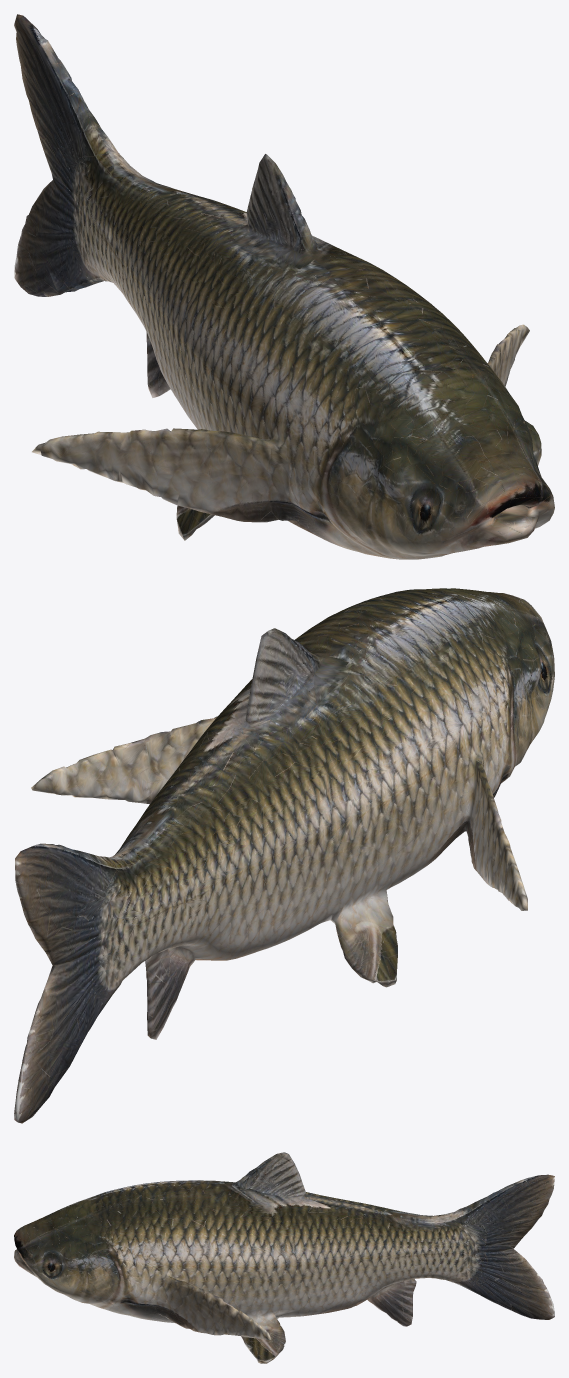
The model's file is fish_grasscarp.glb.
3 renders of one model, top to bottom at view 1: azimuth 30°, elevation 25°; view 2: azimuth 150°, elevation 25°; view 3: azimuth 270°, elevation 25°, orthographic. The views are drawn at different scales.
Parts seen in each view (by area): view 1: geometry_0; view 2: geometry_0; view 3: geometry_0.
Part boxes in pixels (bbox=[...]): geometry_0: bbox=[14, 14, 554, 559]; geometry_0: bbox=[14, 588, 554, 1123]; geometry_0: bbox=[14, 1152, 554, 1363].
Size of the model in its own units: 1.12 by 0.7382 by 1.96.
1 material, 1 textured.
